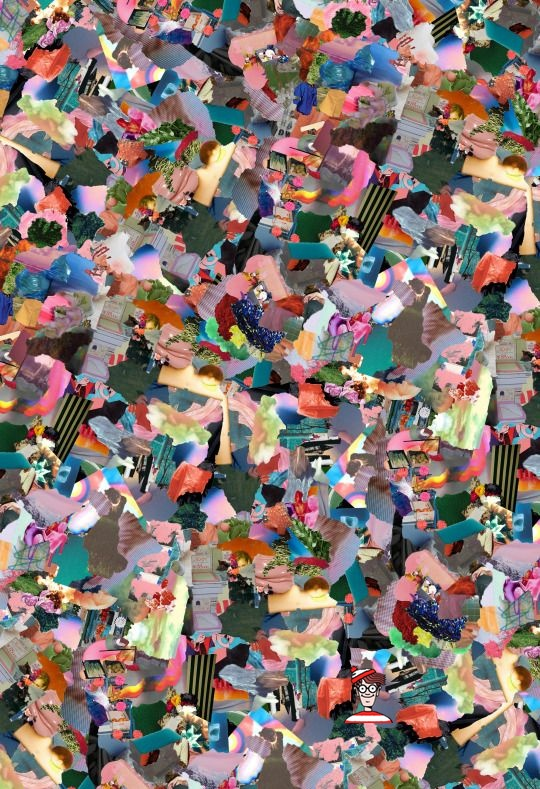waldo: (343, 665, 393, 723)
